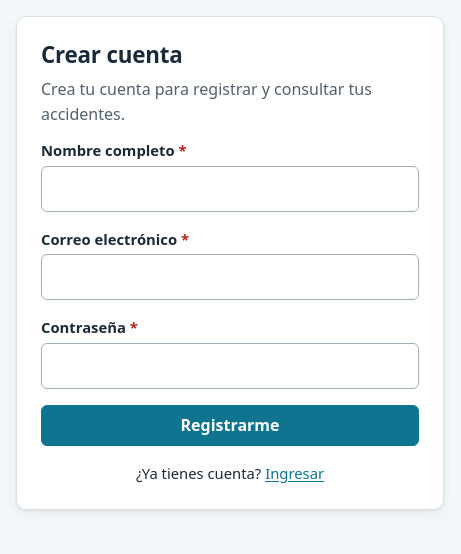
Test: RegisterPage › 400 con details pinta el error en su campo
In the field labelled "Nombre completo": {"x": 230, "y": 188} [41, 166, 419, 212], type "Ana Pérez"
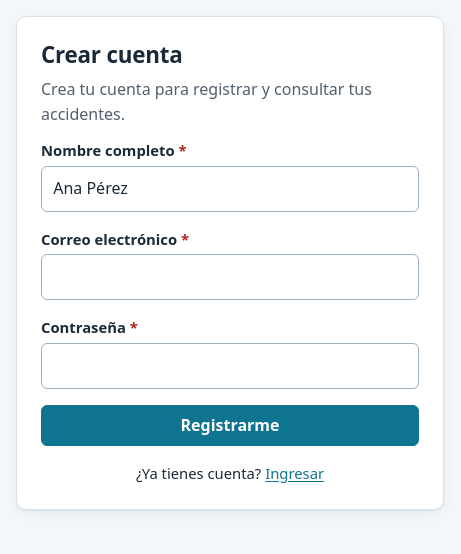
In the field labelled "Correo electrónico": {"x": 230, "y": 277} [41, 254, 419, 300], type "a@b.co"
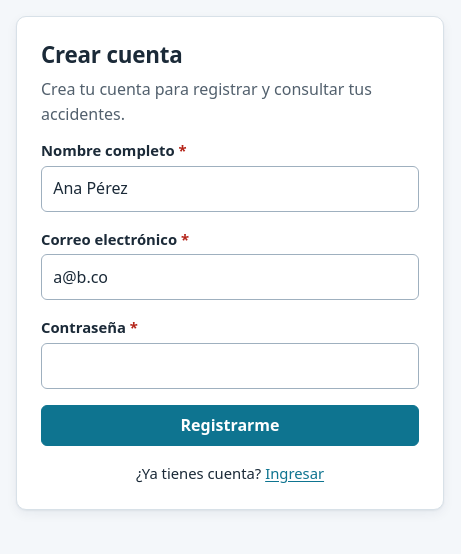
In the password field labelled "Contraseña": {"x": 230, "y": 366} [41, 343, 419, 389], type "secreto123"
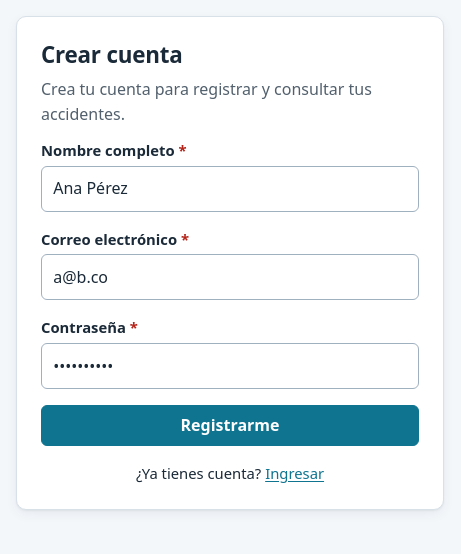
Click the button "Registrarme": {"x": 230, "y": 426} [41, 405, 419, 446]
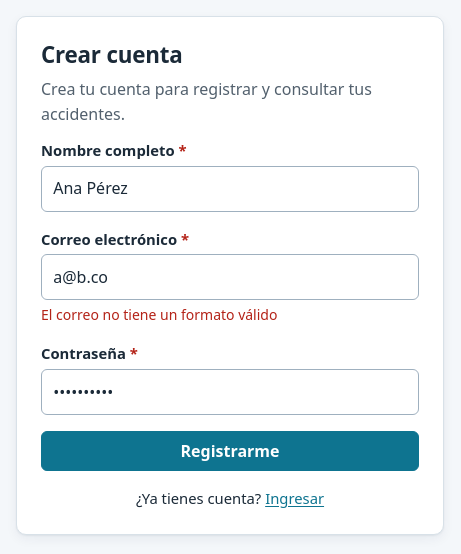
Expected: the text "El correo no tiene un formato válido" is shown, [41, 305, 277, 324]
